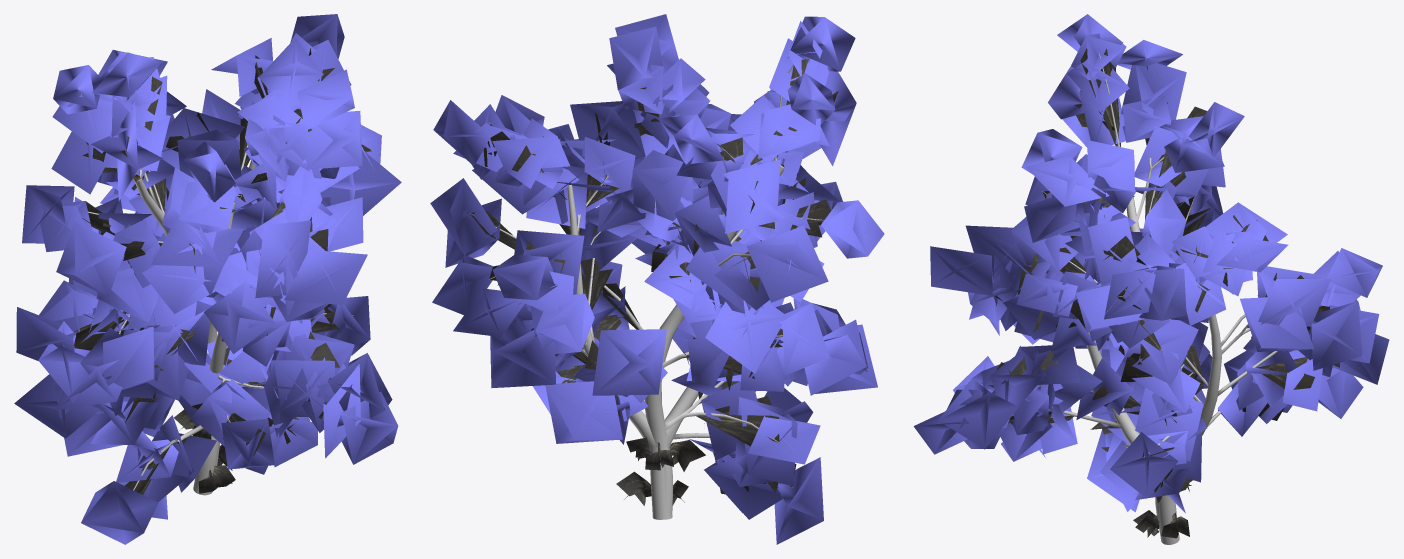
Rendered from Birch_6.fbx.
3 renders of one model, left to right at view 1: azimuth 30°, elevation 25°; view 2: azimuth 150°, elevation 25°; view 3: azimuth 270°, elevation 25°, orthographic. The views are drawn at different scales.
Parts seen in each view (by area): view 1: Birch_6; view 2: Birch_6; view 3: Birch_6.
Part boxes in pixels (x1,y1,x2,y2): Birch_6: (14,14,401,544); Birch_6: (430,14,884,544); Birch_6: (913,14,1389,544).
Bounding box in the file's own units: 22.77 × 29.47 × 26.05.
